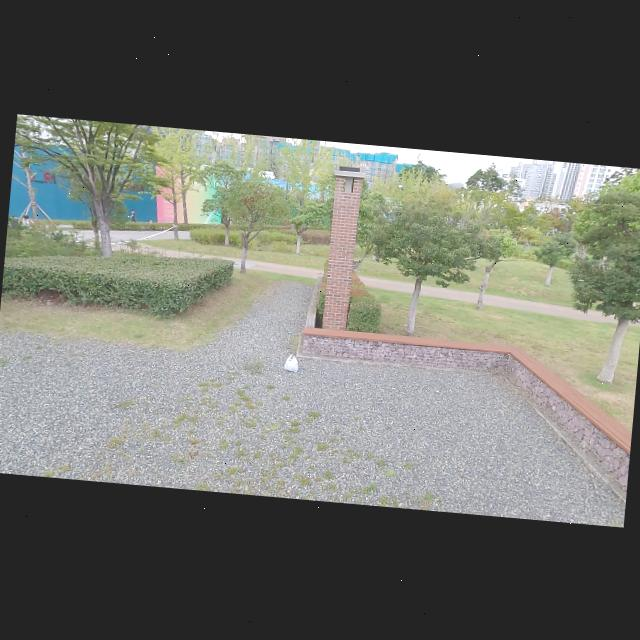trash: (280, 348, 303, 376)
